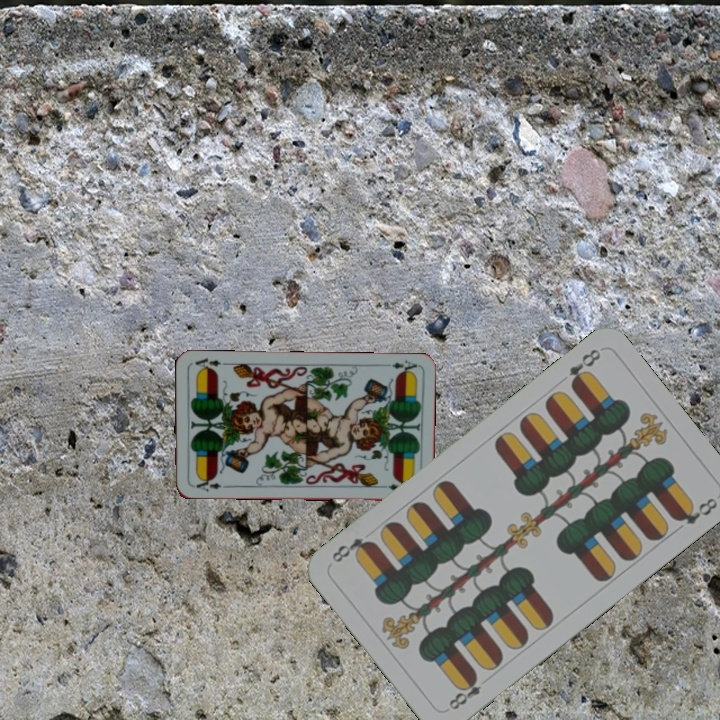E8: (564, 344, 604, 391), (445, 670, 485, 713)
EA: (379, 356, 419, 376), (193, 474, 229, 494)
